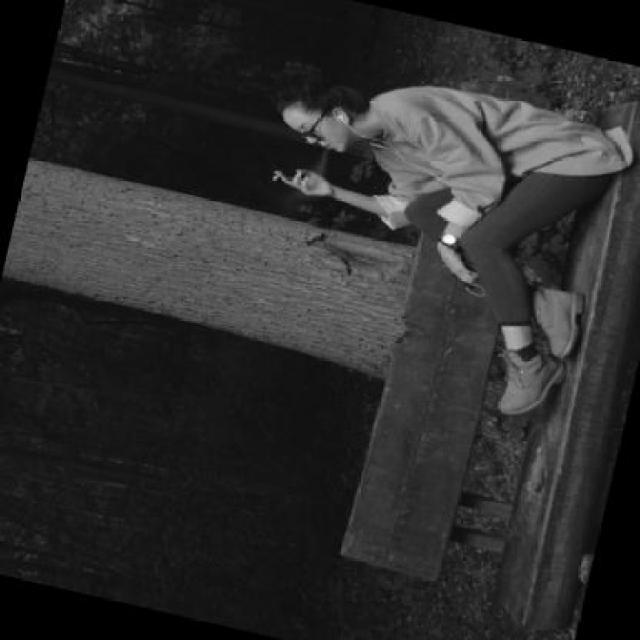cigarette: (272, 169, 282, 182)
